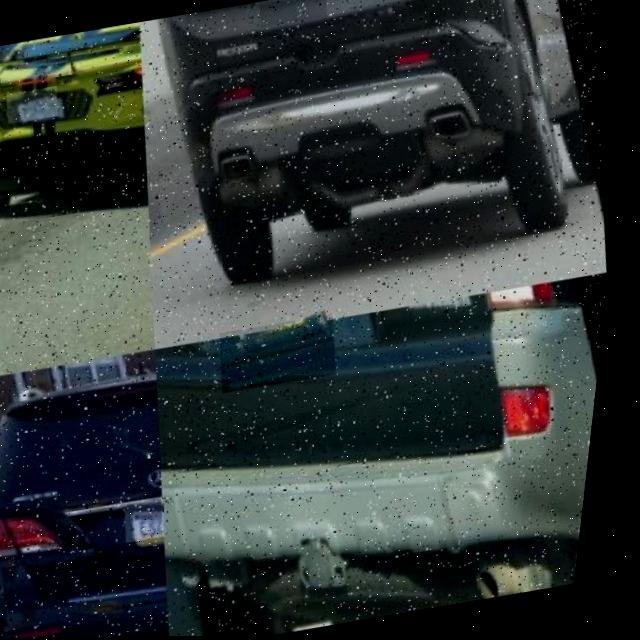LicensePlate: (222, 315, 350, 395), (257, 0, 329, 28), (9, 88, 61, 123), (137, 505, 175, 540)
